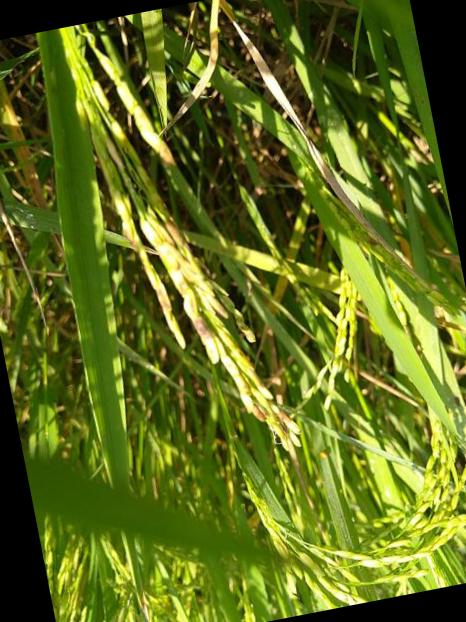Leaf Blight: (226, 10, 396, 255), (159, 0, 221, 133)
Panicle Blight: (169, 269, 219, 363), (252, 403, 301, 447), (114, 196, 143, 247), (154, 133, 176, 164), (105, 134, 121, 165), (208, 294, 228, 317), (165, 219, 181, 245)
